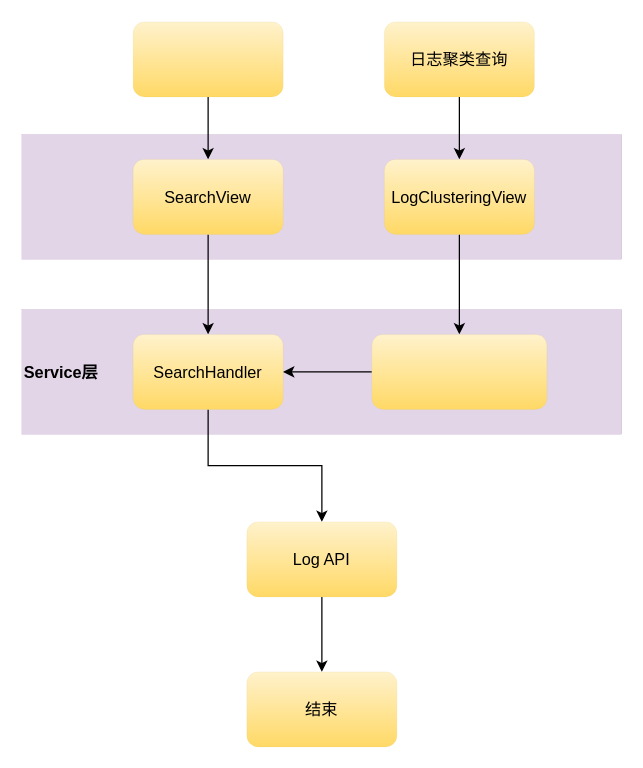
This 643x768 diagram has some shape labels left out. Here are the shapes that lost their labels. From the top down, the box of each, then its label:
(132, 21, 282, 96): 日志查询
(21, 134, 621, 259): Controller层
(371, 334, 546, 409): LogClusteringService
